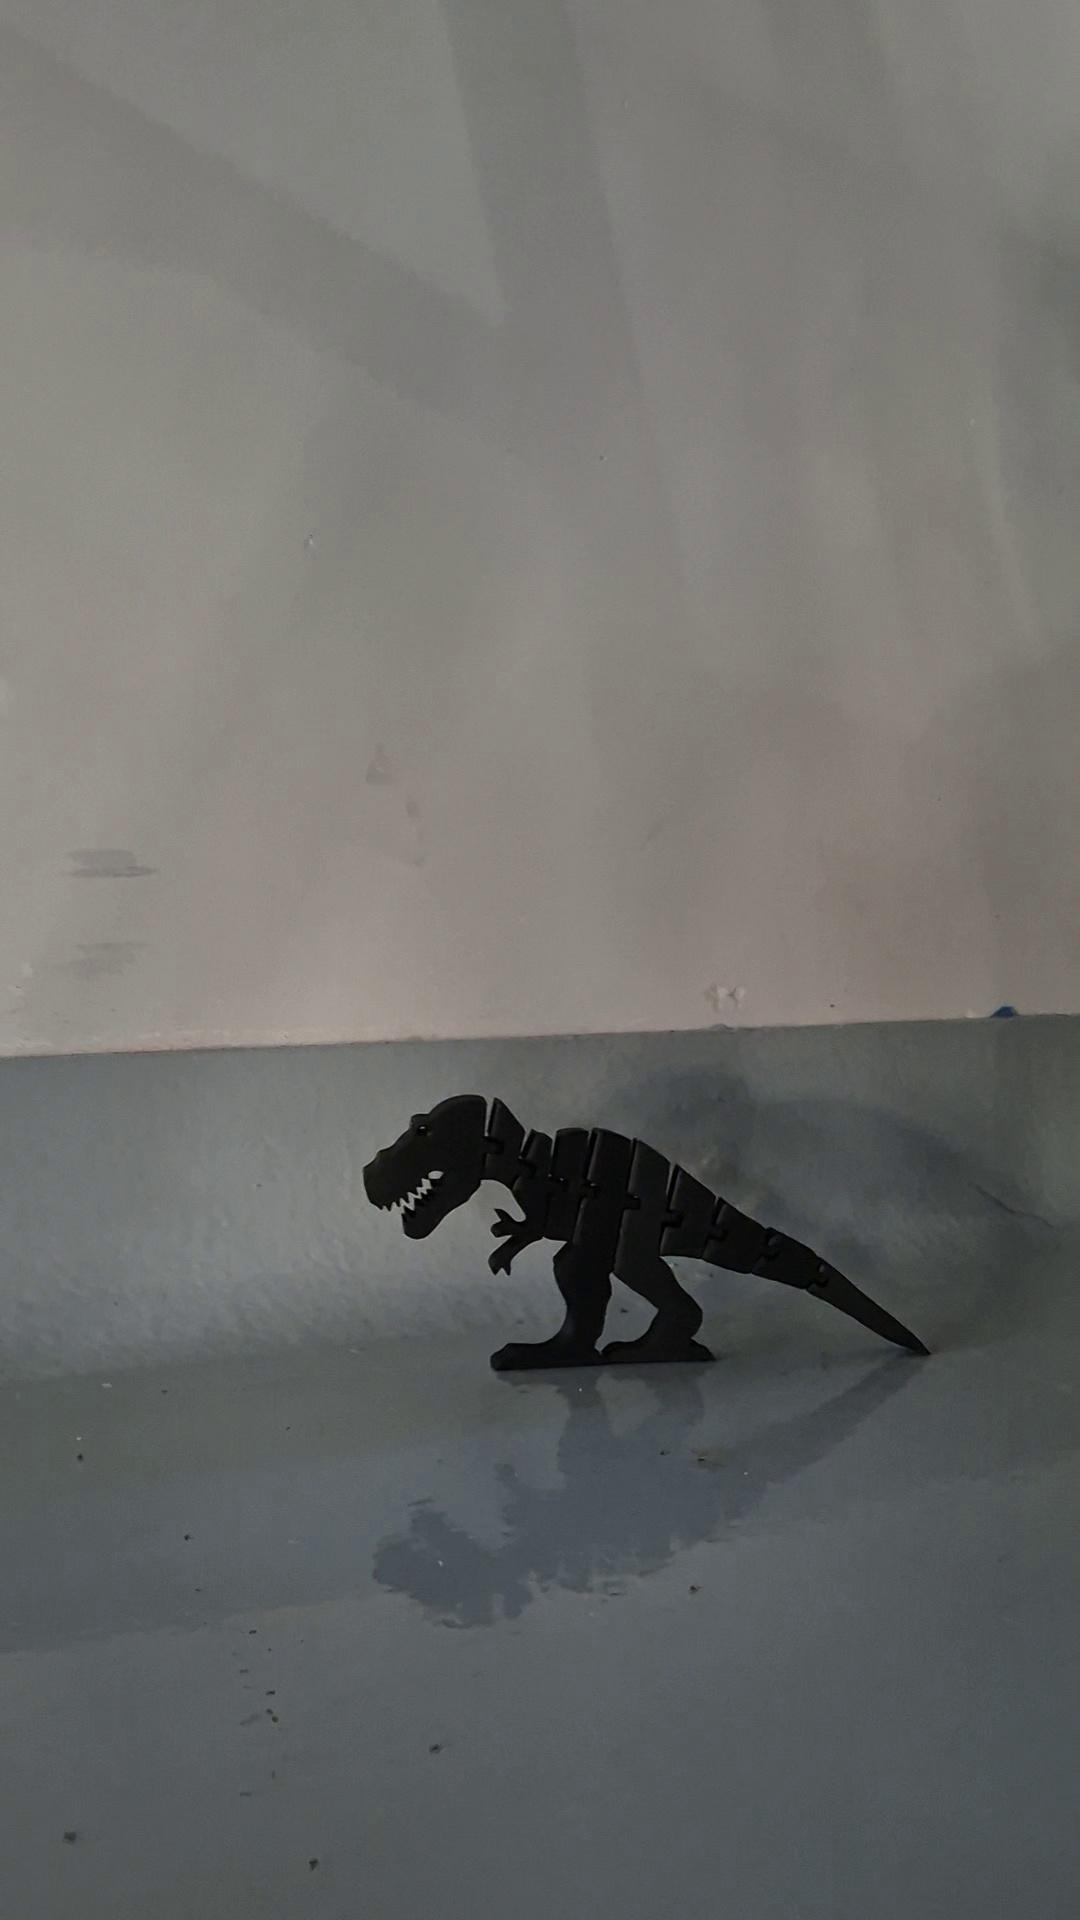dinosaur: (359, 1092, 934, 1374)
